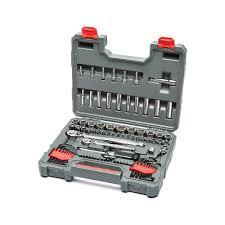wrench: (65, 128, 144, 145)
